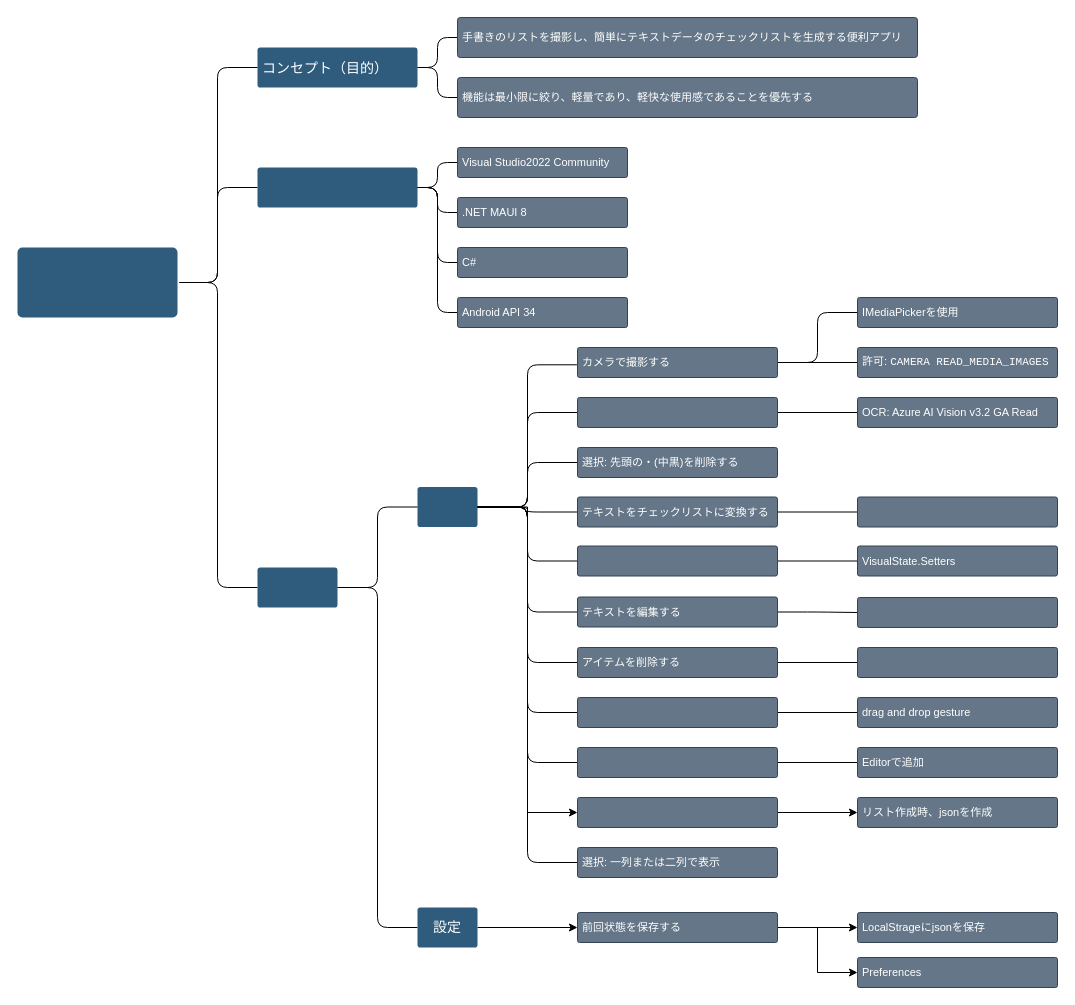
Some shapes in this 1075 by 1005 pixel diagram are drawn without their labels. The shapes that lost their labels are listed below. From the top down, each one's centre as x and y in pixels, then its label:
point (337, 187): 環境
point (97, 282): アプリ名 CheckList Maker
point (677, 412): 画像をテキストに変換する
point (447, 506): 主機能
point (957, 511): CollectionView
point (677, 560): チェックのオン・オフをする
point (297, 587): 仕様
point (957, 612): 削除＆新規作成で対応
point (957, 662): アイテムの右端に削除アイコン配置
point (677, 712): アイテムの位置を入れ替える
point (677, 762): アイテムを追加する
point (677, 812): ItemsをLocal保存し次回起動時に読込
